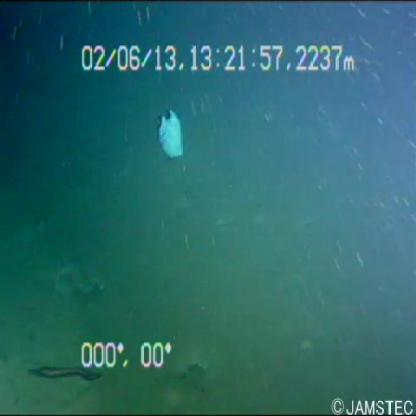Rác: (149, 110, 193, 166)
